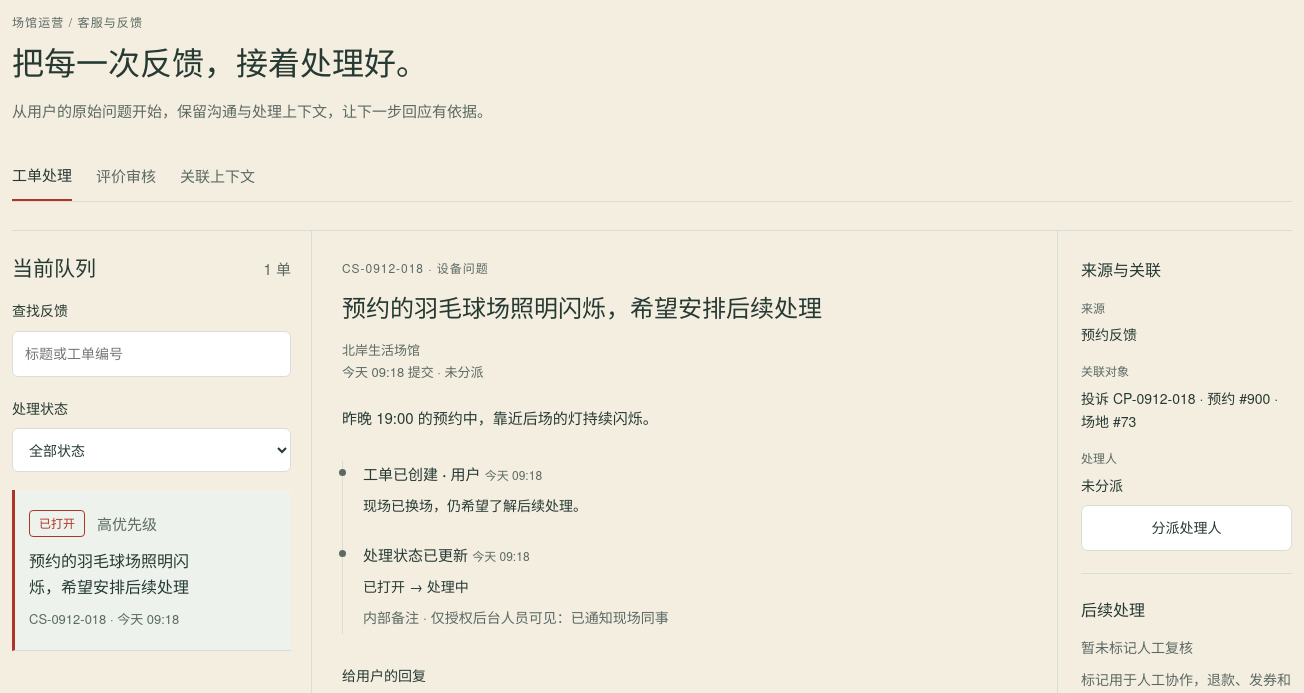
Test: ShiguangVenueCustomerServiceView 队列与权限门控 › 缺 review:manage 时不读评价并呈现该面无权态
The width and height of the screenshot is (1304, 693).
What coordinates should you click on to do the following:
click the button with test id "tab-reviews"
I would click on:
 (126, 176)
Its box is [96,152,156,202].
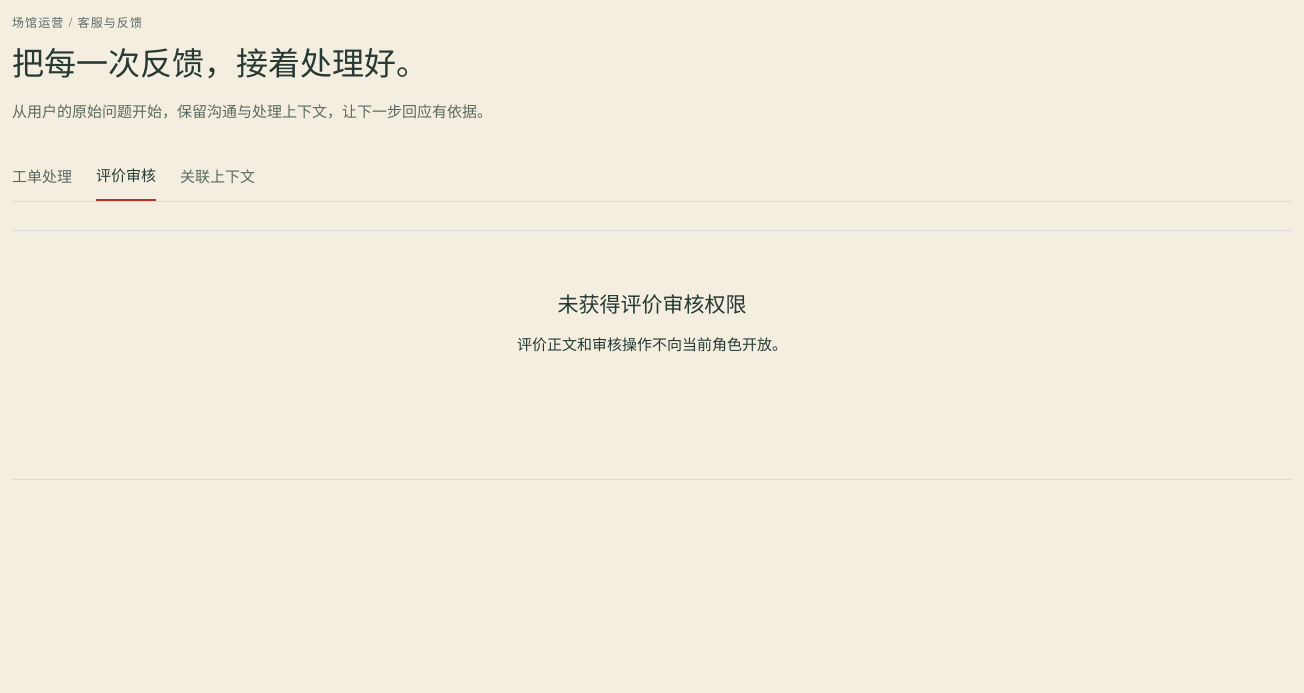
Expected: the message with test id "denied-reviews" shows "未获得评价审核权限", [558,294,746,316]
